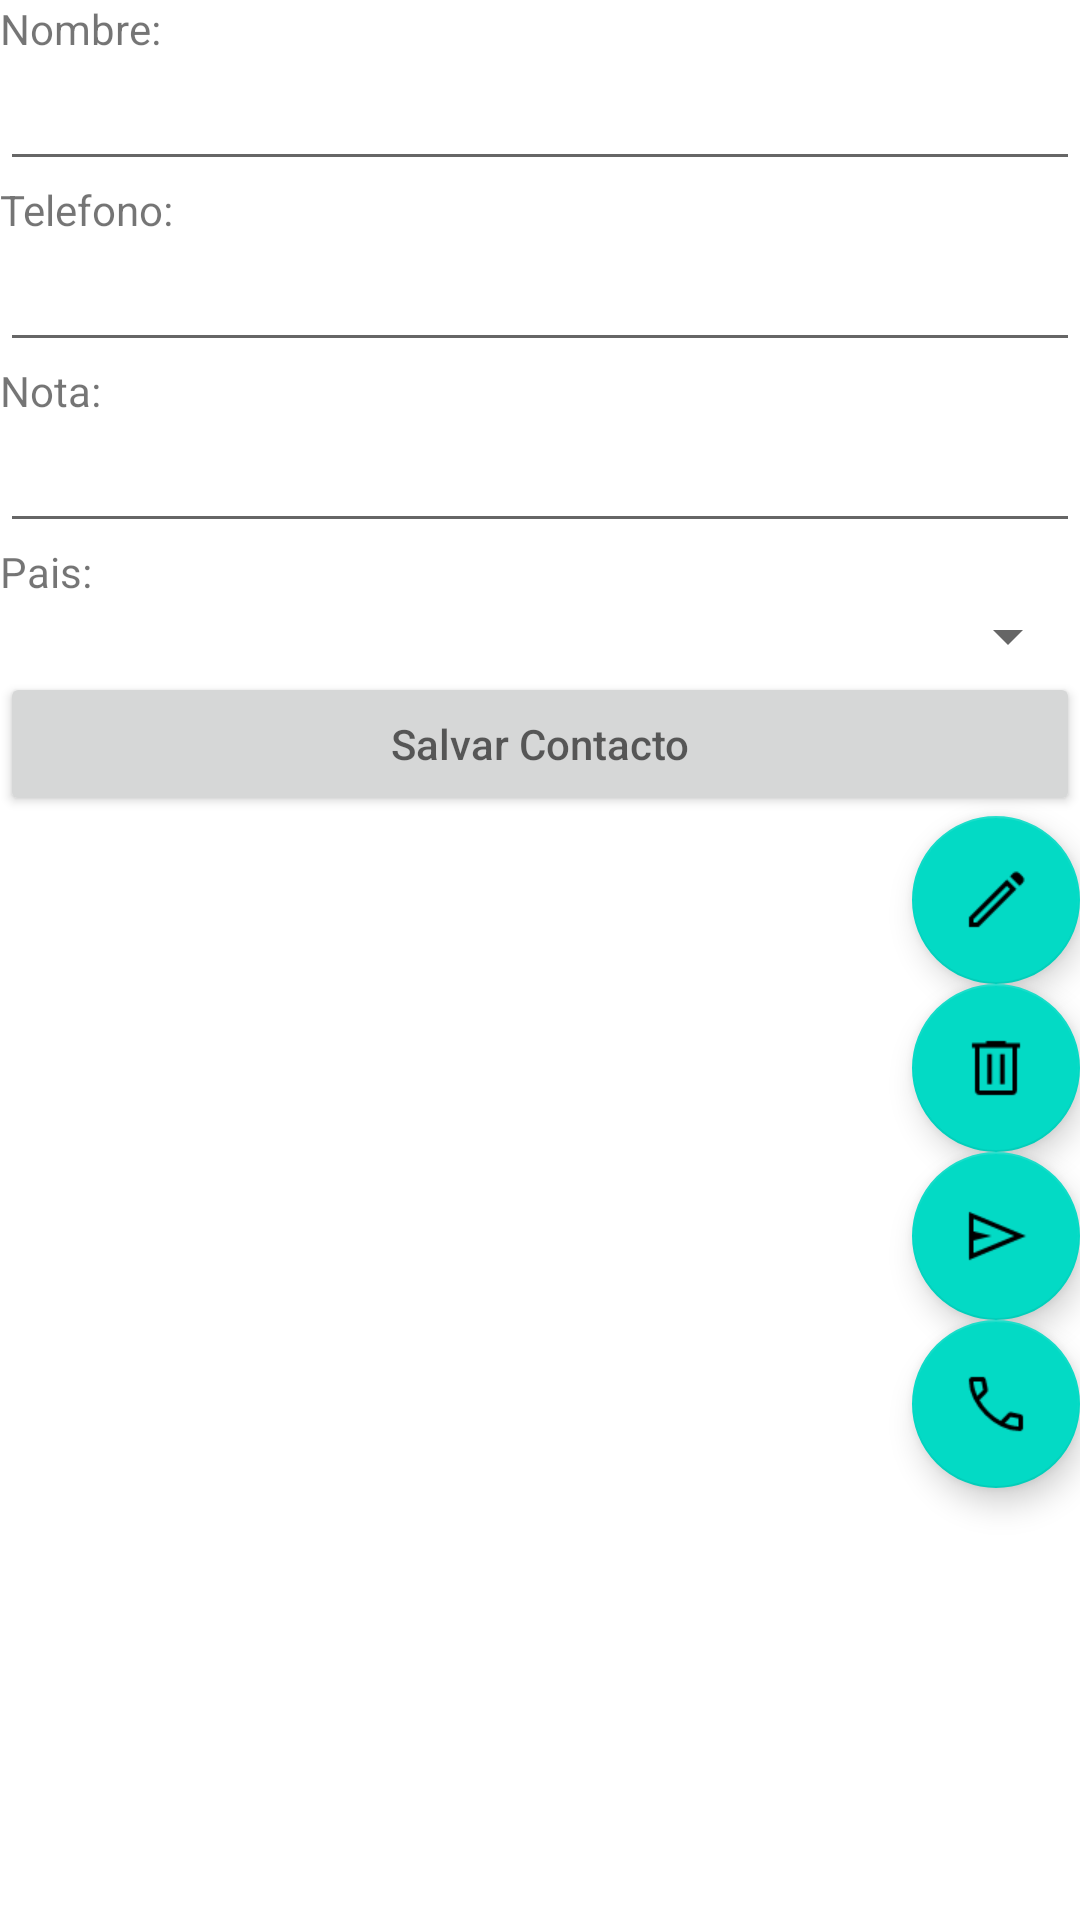

Point at icon controls on the screen. Image size 1080px×1920px, points as [x,y].
borrar: [996,1068]
compartir: [996,1236]
editar: [996,900]
llamar: [996,1404]
